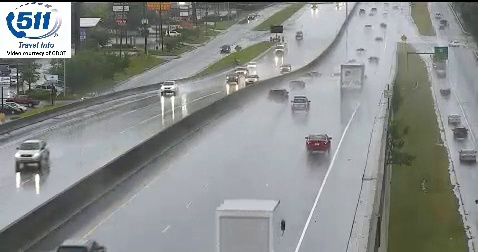car: (305, 134, 330, 152), (291, 97, 310, 111)
small-truck: (341, 64, 364, 93)
